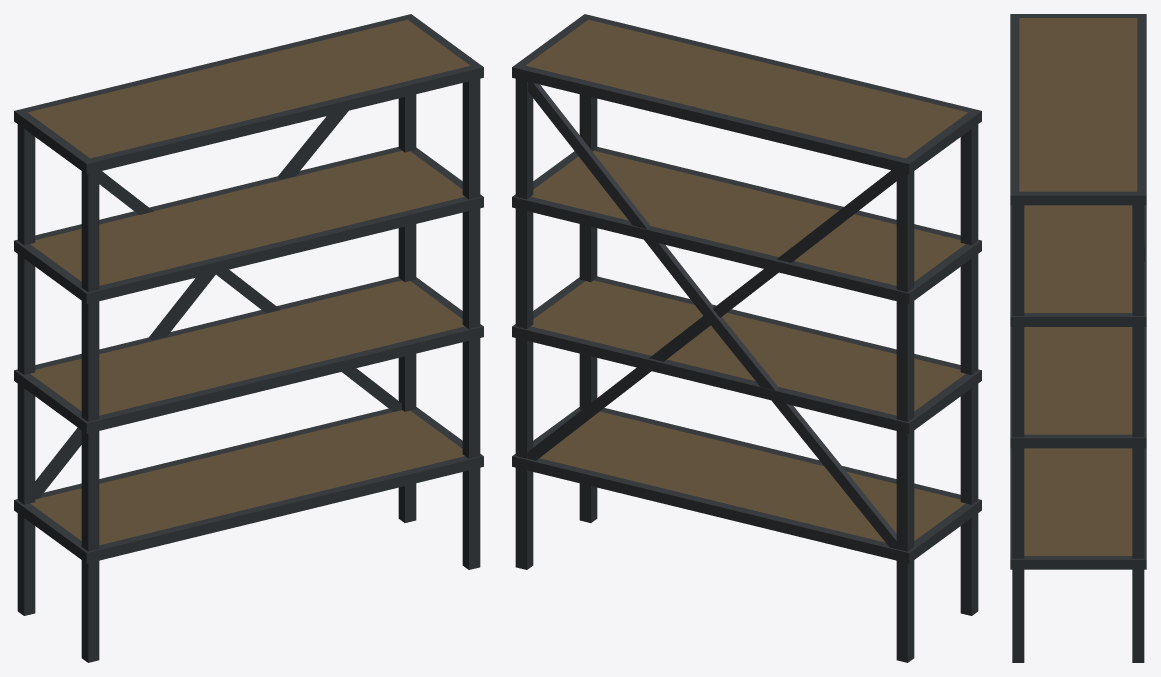
File: SM_Prop_Electronics_Shelf_01.glb
3 views of the same model, side by side, from view 1: azimuth 30°, elevation 25°; view 2: azimuth 150°, elevation 25°; view 3: azimuth 270°, elevation 25° (orthographic). The views are drawn at different scales.
Visible parts, largest first — view 1: SM_Prop_Electronics_Shelf_01; view 2: SM_Prop_Electronics_Shelf_01; view 3: SM_Prop_Electronics_Shelf_01.
Boxes of the visible parts, bbox=[...] form: SM_Prop_Electronics_Shelf_01: bbox=[14, 14, 483, 662]; SM_Prop_Electronics_Shelf_01: bbox=[512, 14, 981, 662]; SM_Prop_Electronics_Shelf_01: bbox=[1010, 14, 1146, 662].
Size of the model in its own units: 1.79 by 2.15 by 0.5681.
1 material, 1 textured.
